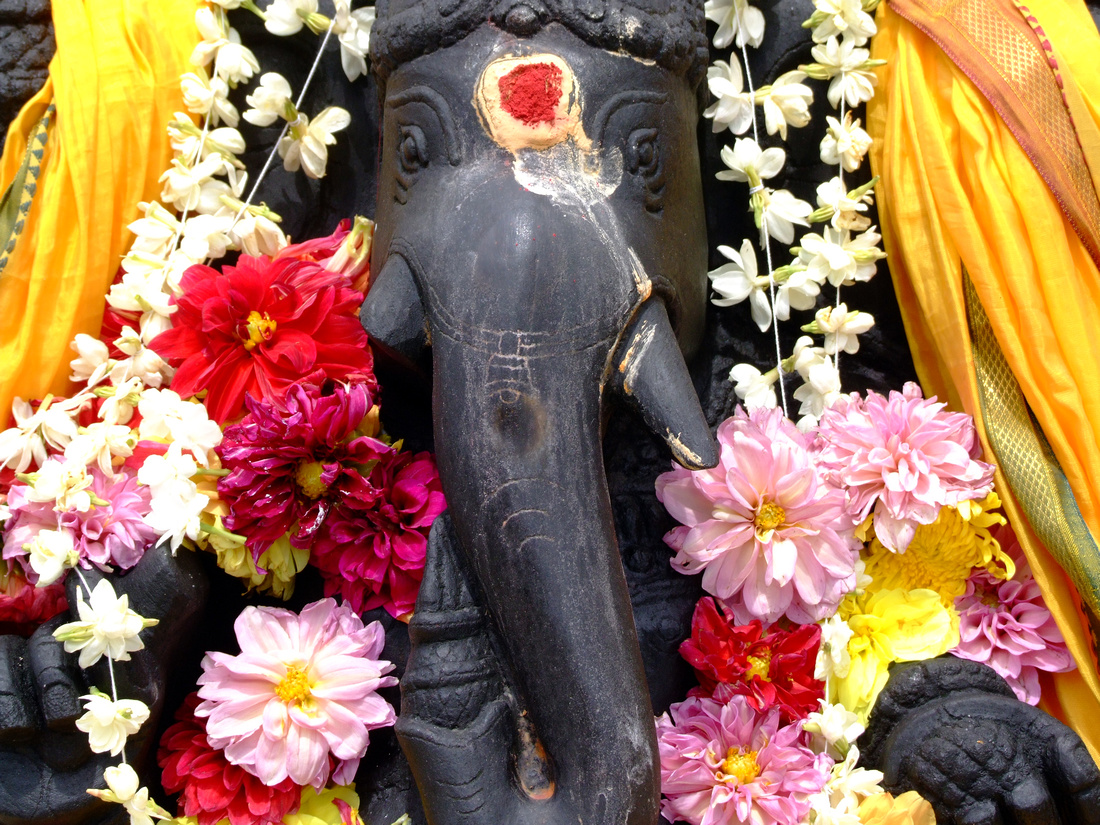Hindu Temple: (276, 1, 737, 755)
